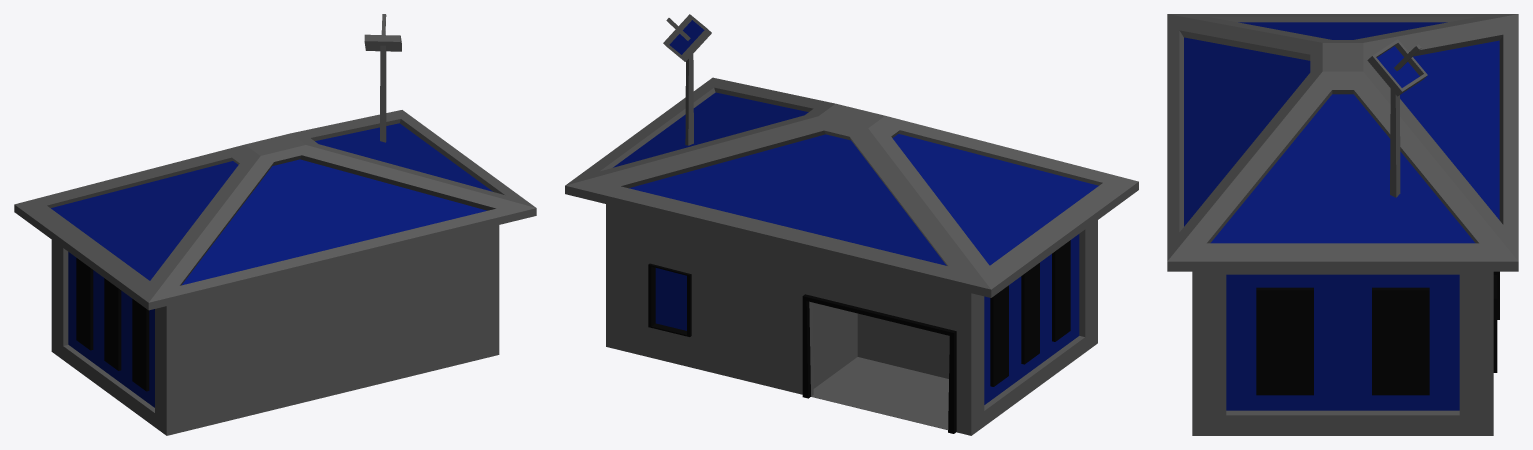
The model's file is house.glb.
3 renders of one model, left to right at view 1: azimuth 30°, elevation 25°; view 2: azimuth 150°, elevation 25°; view 3: azimuth 270°, elevation 25°, orthographic. The views are drawn at different scales.
Parts seen in each view (by area): view 1: House; view 2: House; view 3: House.
Boxes of the visible parts, x1,y1,x2,y2 form: House: [14, 14, 536, 435]; House: [565, 14, 1138, 435]; House: [1167, 14, 1518, 435].
Bounding box in the file's own units: 11.66 × 8.18 × 7.
